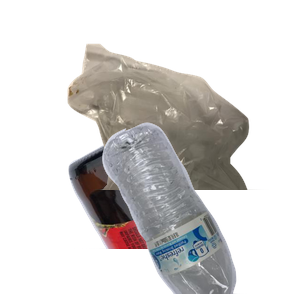glass: (66, 120, 300, 300)
metal: (105, 63, 300, 192)
plastic: (100, 120, 300, 300)
trash: (65, 41, 300, 221)
